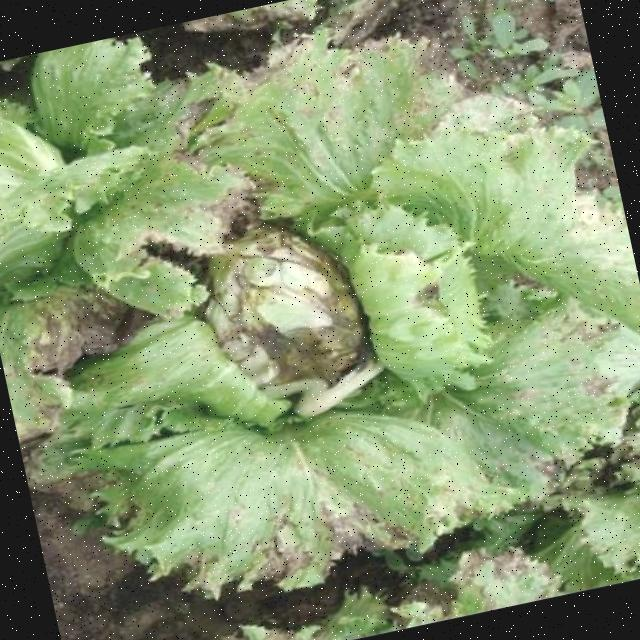Bacterial: (3, 96, 626, 542)
